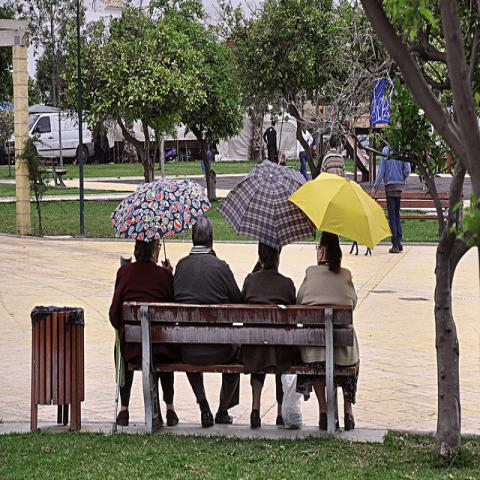truck: (3, 105, 95, 165)
